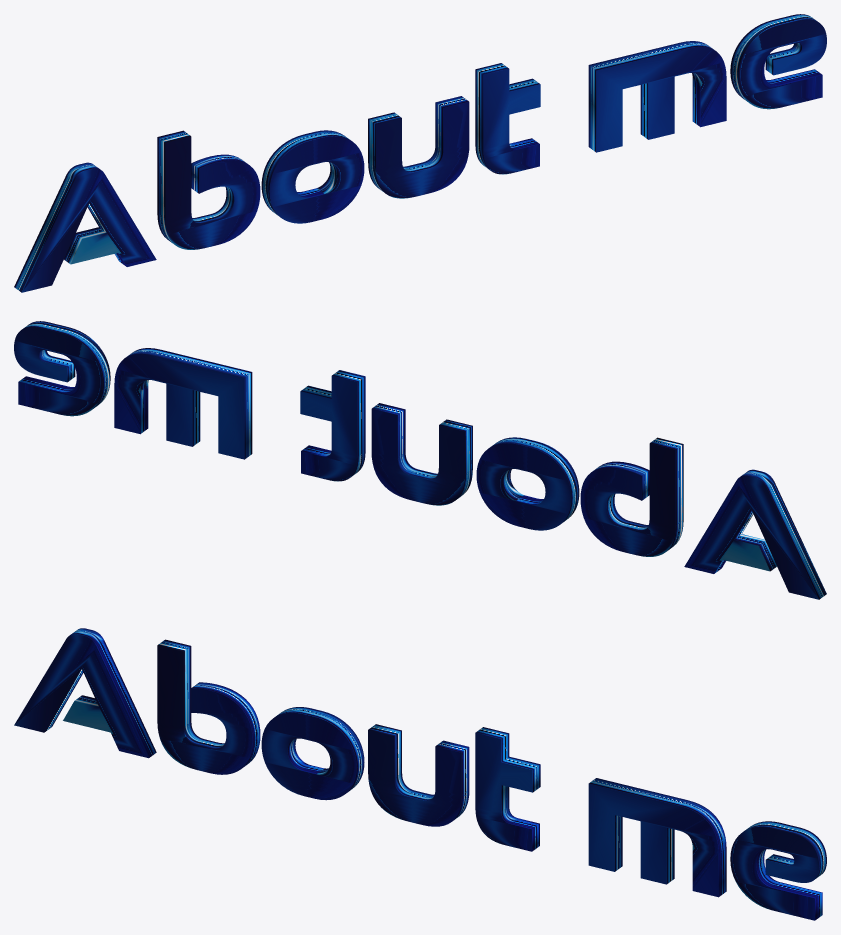
Rendered from aboutme.glb.
3 renders of one model, top to bottom at view 1: azimuth 30°, elevation 25°; view 2: azimuth 150°, elevation 25°; view 3: azimuth 330°, elevation 25°, orthographic.
Visible parts, largest first — view 1: Text; view 2: Text; view 3: Text.
Part boxes in pixels (bbox=[...]): Text: bbox=[14, 14, 826, 292]; Text: bbox=[14, 321, 826, 599]; Text: bbox=[14, 628, 826, 920].
Bounding box in the file's own units: 3.55 × 0.4845 × 0.06.
1 material, 1 textured.
